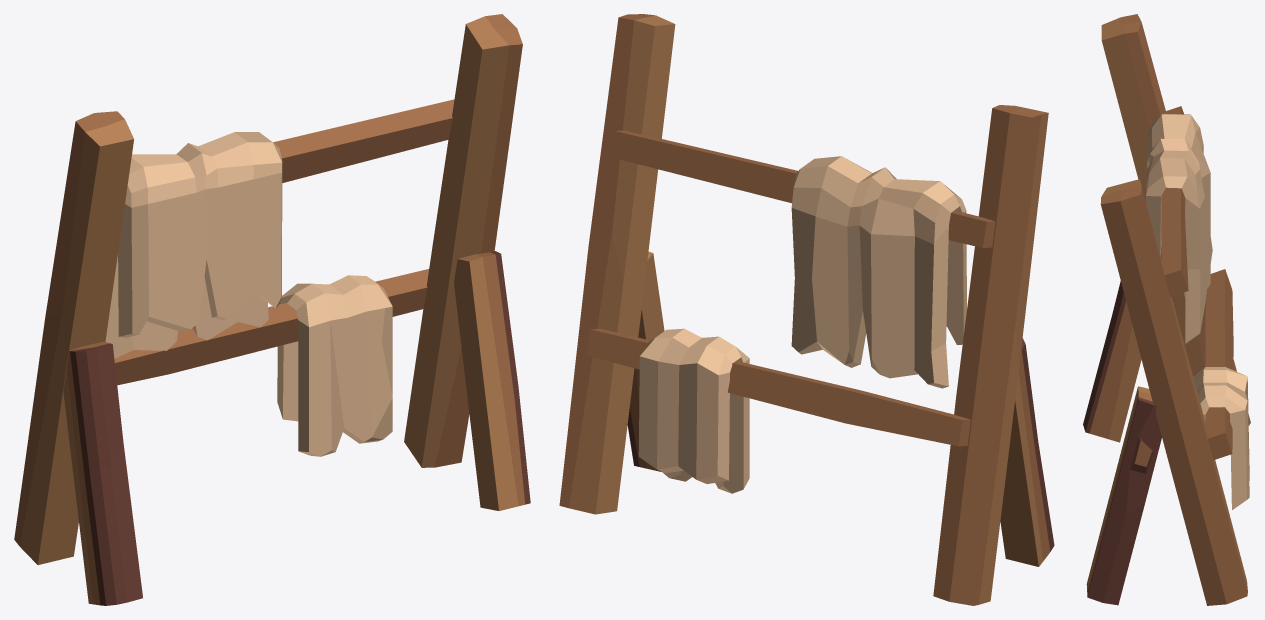
The model's file is drying.fbx.
3 renders of one model, left to right at view 1: azimuth 30°, elevation 25°; view 2: azimuth 150°, elevation 25°; view 3: azimuth 270°, elevation 25°, orthographic. The views are drawn at different scales.
Parts seen in each view (by area): view 1: drying; view 2: drying; view 3: drying.
Boxes of the visible parts, <box> form: drying: <box>14,14,530,605</box>; drying: <box>559,14,1054,605</box>; drying: <box>1083,14,1250,605</box>.
Size of the model in its own units: 76.64 by 80.62 by 29.57.
